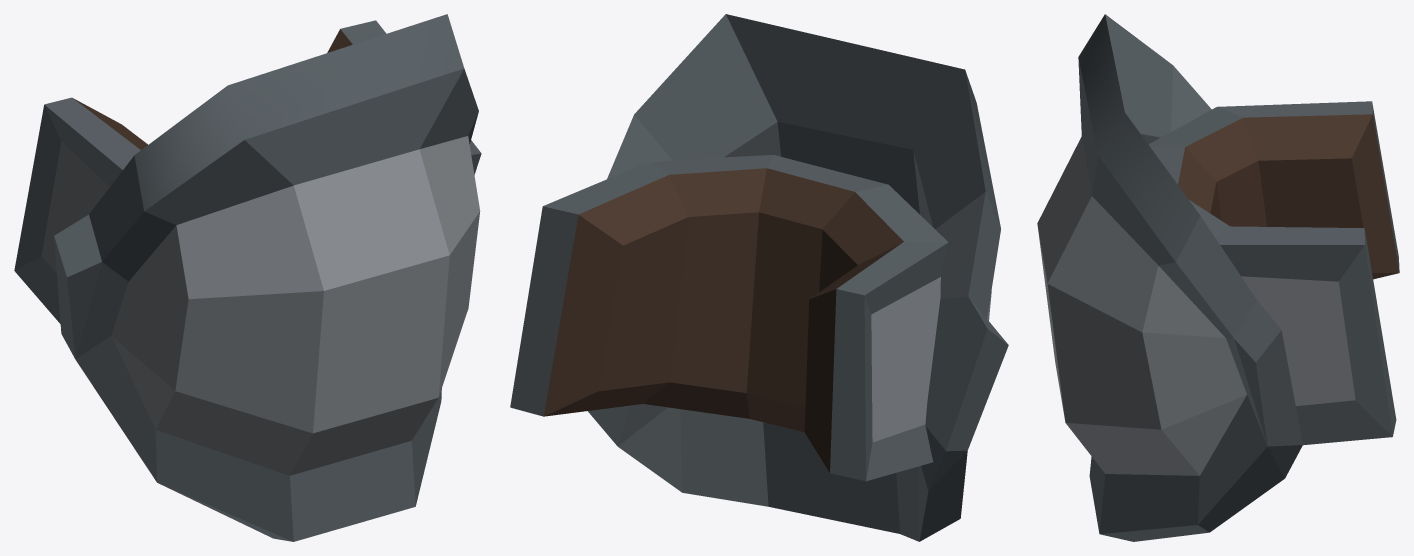
File: Chr_KneeAttachLeft_04_Static.fbx
3 views of the same model, side by side, from view 1: azimuth 30°, elevation 25°; view 2: azimuth 150°, elevation 25°; view 3: azimuth 270°, elevation 25° (orthographic). The views are drawn at different scales.
Parts seen in each view (by area): view 1: Chr_KneeAttachLeft_04_Static; view 2: Chr_KneeAttachLeft_04_Static; view 3: Chr_KneeAttachLeft_04_Static.
Boxes of the visible parts, box(x1,y1,x2,y2) form: Chr_KneeAttachLeft_04_Static: box(14, 14, 481, 541); Chr_KneeAttachLeft_04_Static: box(510, 14, 1008, 541); Chr_KneeAttachLeft_04_Static: box(1037, 14, 1399, 541).
Bounding box in the file's own units: 0.1647 × 0.1736 × 0.1262.
